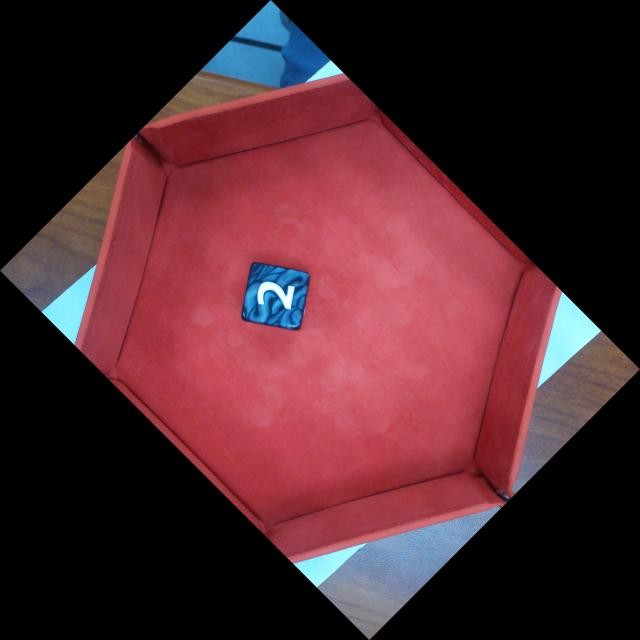dice: (238, 260, 313, 332)
